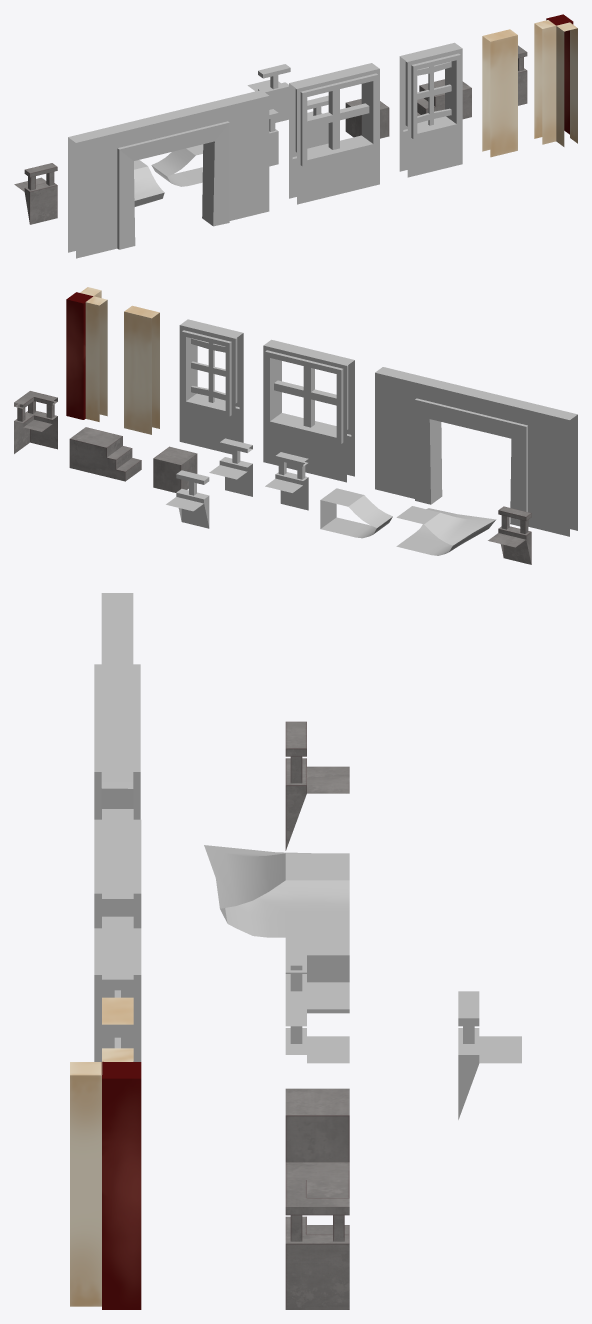
Rendered from modular asset kit temple.fbx.
3 renders of one model, top to bottom at view 1: azimuth 30°, elevation 25°; view 2: azimuth 150°, elevation 25°; view 3: azimuth 270°, elevation 25°, orthographic. The views are drawn at different scales.
Parts seen in each view (by area): view 1: Cube.141, Cube.160, Cube.146, platform midle tile.009, Cube.158, edge straight platform tile 2.043, Cube.098, edge staight platform tile.055, Cube.097, Cube.007, edge staight platform tile.002, Cube.008 (+2 smaller); view 2: Cube.141, Cube.160, Cube.146, platform midle tile.009, Cube.158, Cube.097, Cube.007, Cube.098, corner platform tile.001, edge straight platform tile 2.043, edge straight platform tile 2.003, Cube.008 (+2 smaller); view 3: platform midle tile.009, Cube.097, Cube.141, corner platform tile.001, Cube.146, Cube.160, Cube.008, edge straight platform tile 2.043, edge staight platform tile.055, Cube.098, edge staight platform tile.002, edge straight platform tile 2.003 (+2 smaller).
Boxes of the visible parts, x1,y1,x2,y2 form: Cube.141: [68, 90, 269, 258]; Cube.160: [289, 63, 379, 204]; Cube.146: [399, 42, 462, 177]; platform midle tile.009: [534, 14, 577, 146]; Cube.158: [482, 29, 517, 157]; edge straight platform tile 2.043: [14, 163, 57, 224]; Cube.098: [151, 144, 203, 186]; edge staight platform tile.055: [247, 64, 290, 122]; Cube.097: [134, 160, 164, 206]; Cube.007: [417, 79, 471, 119]; edge staight platform tile.002: [307, 95, 328, 148]; Cube.008: [345, 99, 389, 138]; Cube.141: [375, 367, 577, 536]; Cube.160: [263, 339, 354, 482]; Cube.146: [179, 319, 243, 454]; platform midle tile.009: [66, 287, 107, 421]; Cube.158: [124, 305, 159, 434]; Cube.097: [396, 506, 496, 555]; Cube.007: [69, 427, 141, 481]; Cube.098: [320, 488, 392, 538]; corner platform tile.001: [14, 391, 57, 453]; edge straight platform tile 2.043: [488, 506, 531, 564]; edge straight platform tile 2.003: [265, 452, 308, 510]; Cube.008: [153, 446, 197, 492]; platform midle tile.009: [70, 1048, 141, 1309]; Cube.097: [204, 845, 349, 937]; Cube.141: [94, 593, 140, 819]; corner platform tile.001: [285, 1180, 349, 1309]; Cube.146: [94, 916, 141, 1061]; Cube.160: [94, 809, 141, 928]; Cube.008: [285, 1088, 349, 1162]; edge straight platform tile 2.043: [285, 721, 349, 850]; edge staight platform tile.055: [458, 991, 521, 1119]; Cube.098: [285, 928, 349, 1013]; edge staight platform tile.002: [285, 991, 349, 1063]; edge straight platform tile 2.003: [285, 937, 349, 1009].
Size of the model in its own units: 1800 by 400 by 708.
